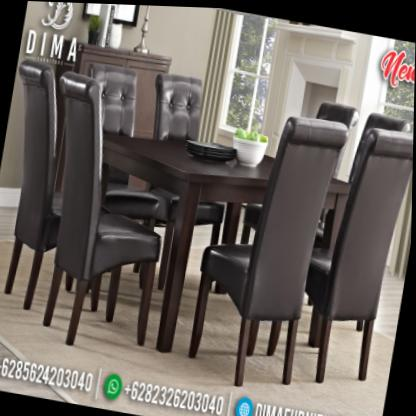Dining Table: (0, 55, 415, 410)
